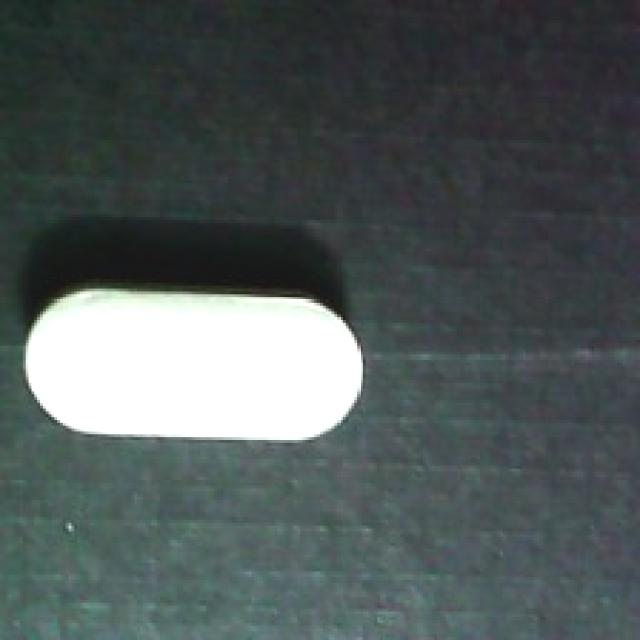no-defect: (14, 274, 377, 451)
